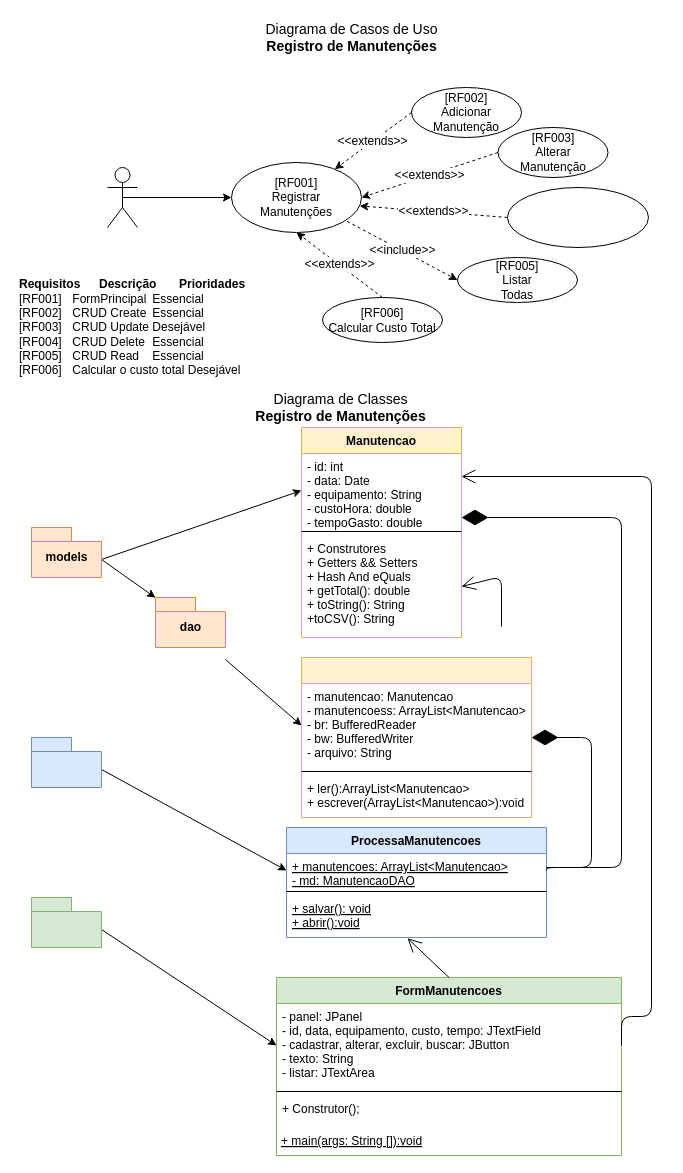
Image size: 683x1173. Some labels were removed from this diagram. Here are the shapes that lost their labels. From the top down, the box of each, then its label:
(106, 166, 138, 228): Usuário
(506, 186, 648, 248): [RF004] Excluir Manutenção
(300, 656, 532, 818): ManutencaoDAO
(30, 736, 102, 788): controllers
(30, 896, 102, 948): viewers
